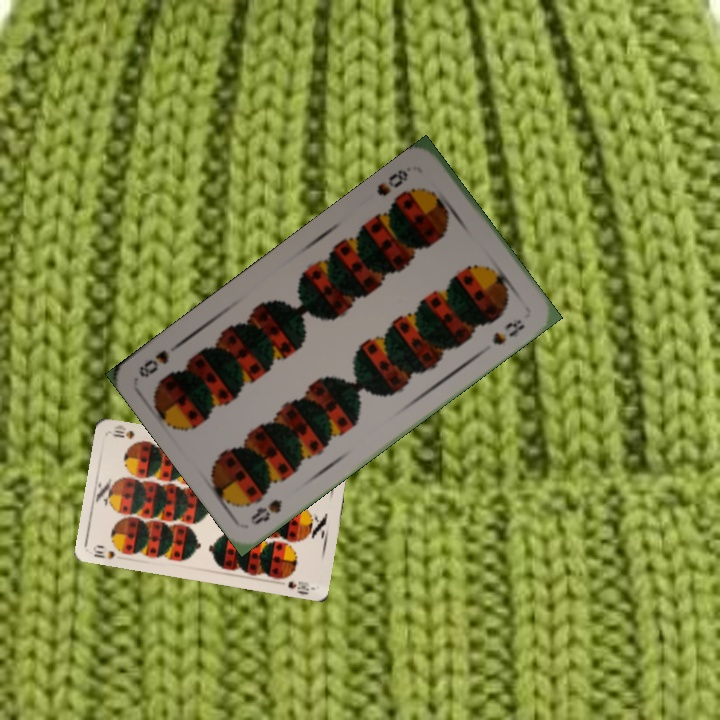S10: (89, 541, 129, 562)
S8: (372, 165, 411, 199), (246, 495, 285, 528)
